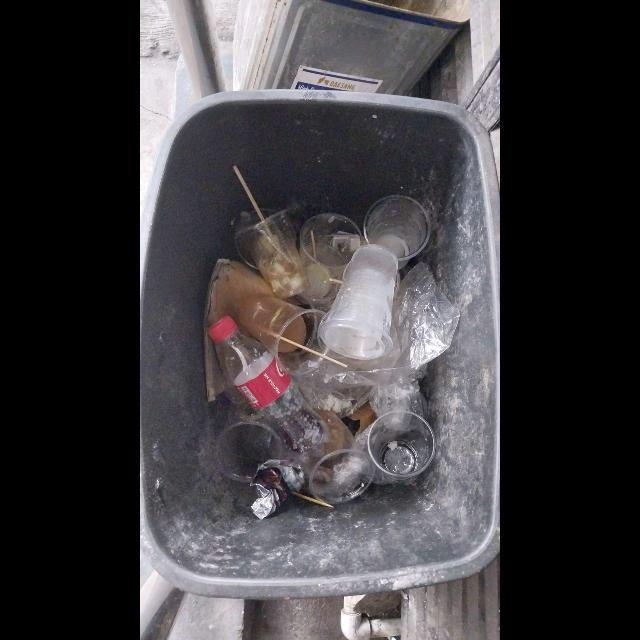food_wrapper: (250, 460, 305, 520)
plastic_bag: (318, 262, 460, 418)
plastic_bottle: (208, 316, 331, 463)
plastic_container: (318, 244, 400, 362), (237, 295, 326, 376), (304, 409, 373, 504), (238, 210, 309, 299), (298, 214, 363, 308), (367, 411, 436, 486), (363, 194, 431, 268)
